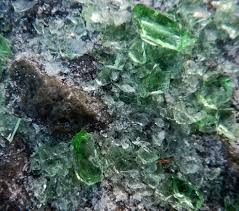glass: (129, 3, 189, 55), (67, 131, 108, 187), (162, 170, 207, 209), (197, 71, 235, 109), (138, 60, 172, 99), (171, 92, 207, 125), (1, 108, 25, 146), (125, 38, 155, 66), (192, 106, 220, 133), (93, 62, 122, 87), (134, 143, 159, 165)
